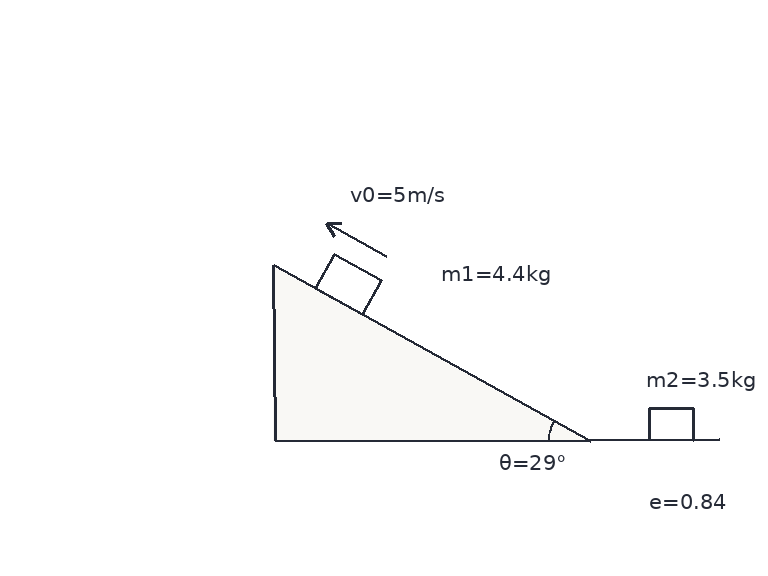block: (313, 252, 383, 316), (647, 406, 695, 442)
ramp: (271, 263, 591, 442)
